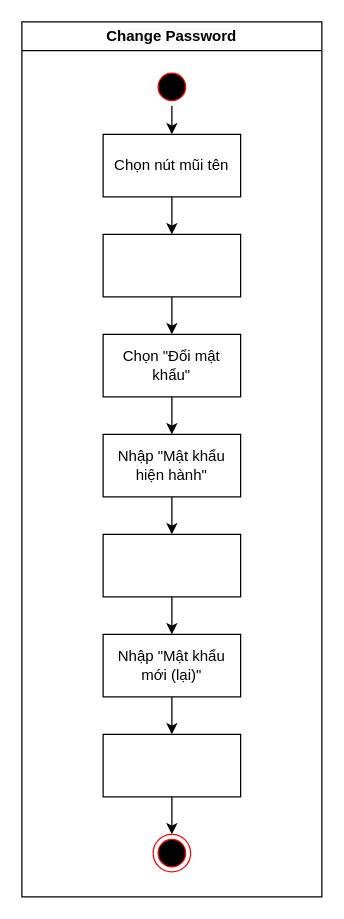
The diagram is 344 pixels wide and 919 high, and some of its shapes have lost their labels. Here are the shapes that lost their labels. From the top down, the centre of each, then its label:
point (171, 265): Chọn "Tùy chọn"
point (171, 565): Nhập "Mật khẩu mới"
point (171, 765): Chọn "Lưu những thay đổi"
